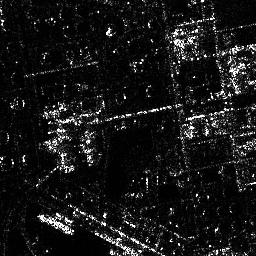ship: (36, 212, 75, 236)
